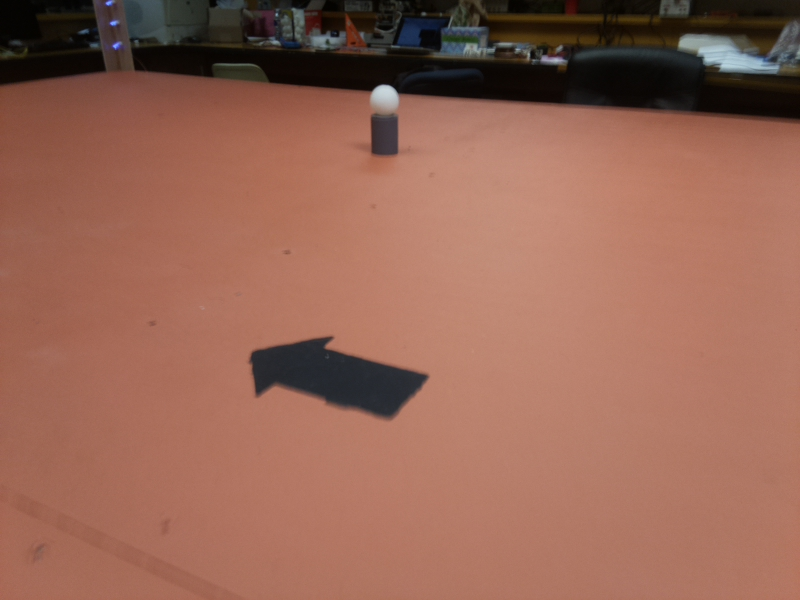obstacle: (368, 84, 401, 161)
start: (249, 335, 429, 426)
